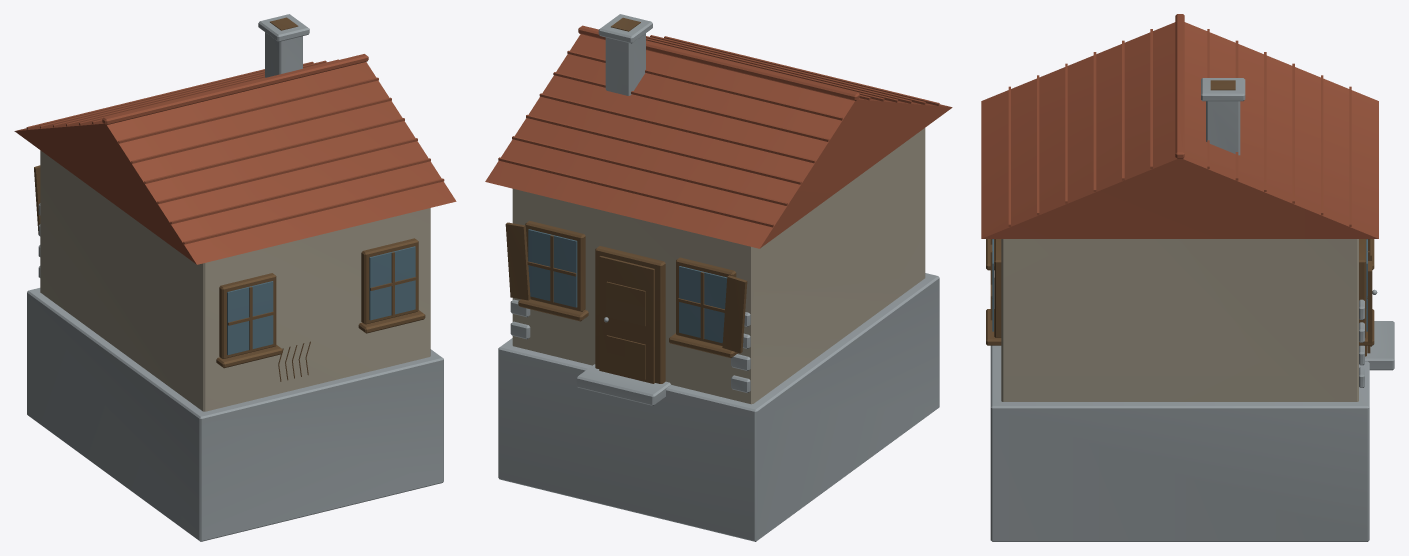
The model's file is house-old.glb.
3 renders of one model, left to right at view 1: azimuth 30°, elevation 25°; view 2: azimuth 150°, elevation 25°; view 3: azimuth 270°, elevation 25°, orthographic. The views are drawn at different scales.
Parts seen in each view (by area): view 1: stone foundation, pitched roof, house walls, chimney opening, window glass; view 2: stone foundation, pitched roof, house walls, chimney opening, window glass; view 3: pitched roof, stone foundation, house walls, chimney opening.
Boxes of the visible parts, x1=… form: stone foundation: x1=27, y1=14, x2=443, y2=541; pitched roof: x1=14, y1=54, x2=456, y2=264; house walls: x1=40, y1=150, x2=430, y2=411; chimney opening: x1=34, y1=17, x2=425, y2=381; window glass: x1=227, y1=246, x2=415, y2=354; stone foundation: x1=498, y1=14, x2=939, y2=541; pitched roof: x1=485, y1=25, x2=952, y2=248; house walls: x1=512, y1=128, x2=925, y2=404; chimney opening: x1=505, y1=17, x2=747, y2=383; window glass: x1=528, y1=229, x2=727, y2=343; pitched roof: x1=981, y1=14, x2=1378, y2=238; stone foundation: x1=990, y1=78, x2=1394, y2=541; house walls: x1=1001, y1=239, x2=1358, y2=401; chimney opening: x1=986, y1=80, x2=1374, y2=356.
Bounding box in the file's own units: 4.63 × 6.62 × 5.78.
